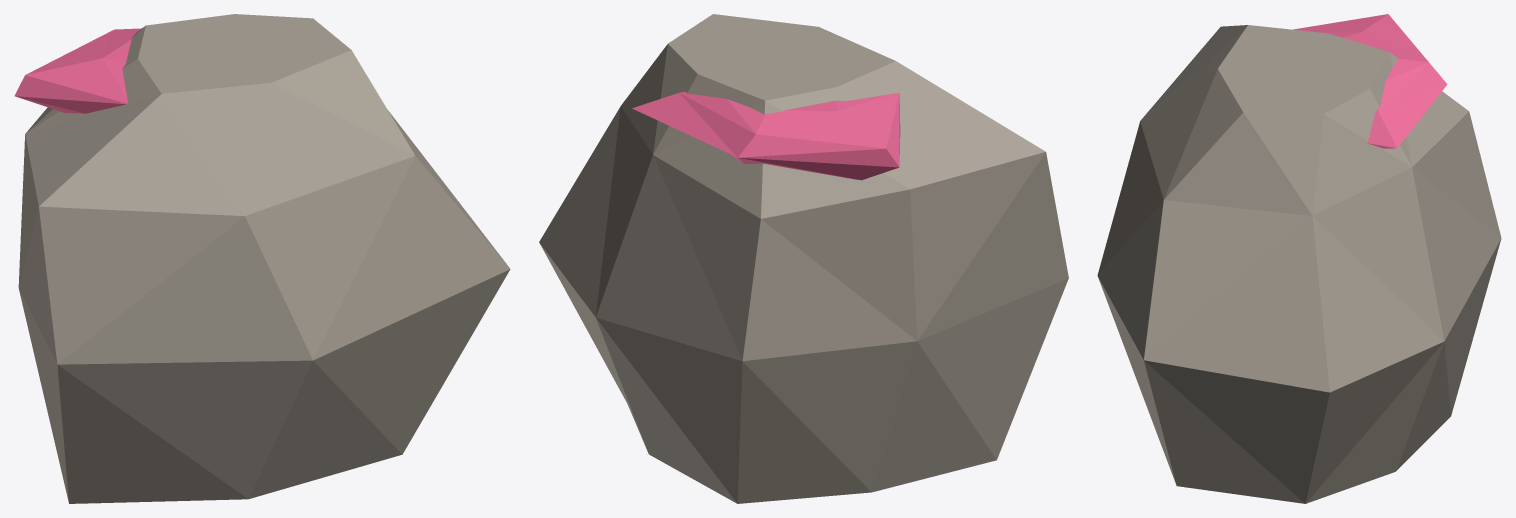
File: aq_rock_reef_a.fbx
3 views of the same model, side by side, from view 1: azimuth 30°, elevation 25°; view 2: azimuth 150°, elevation 25°; view 3: azimuth 270°, elevation 25° (orthographic). The views are drawn at different scales.
Visible parts, largest first — view 1: aq_rock_reef_a; view 2: aq_rock_reef_a; view 3: aq_rock_reef_a.
Part boxes in pixels (x1,y1,x2,y2): aq_rock_reef_a: (14, 14, 510, 503); aq_rock_reef_a: (539, 14, 1068, 503); aq_rock_reef_a: (1097, 14, 1501, 503).
Bounding box in the file's own units: 1.5 × 1.2 × 1.2.
